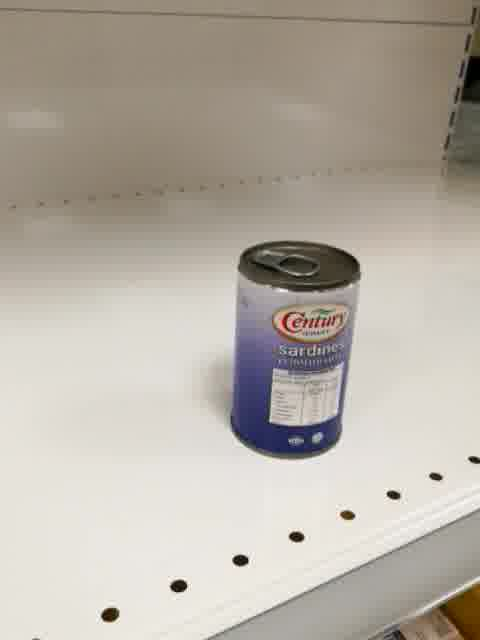sardine: (231, 238, 362, 461)
